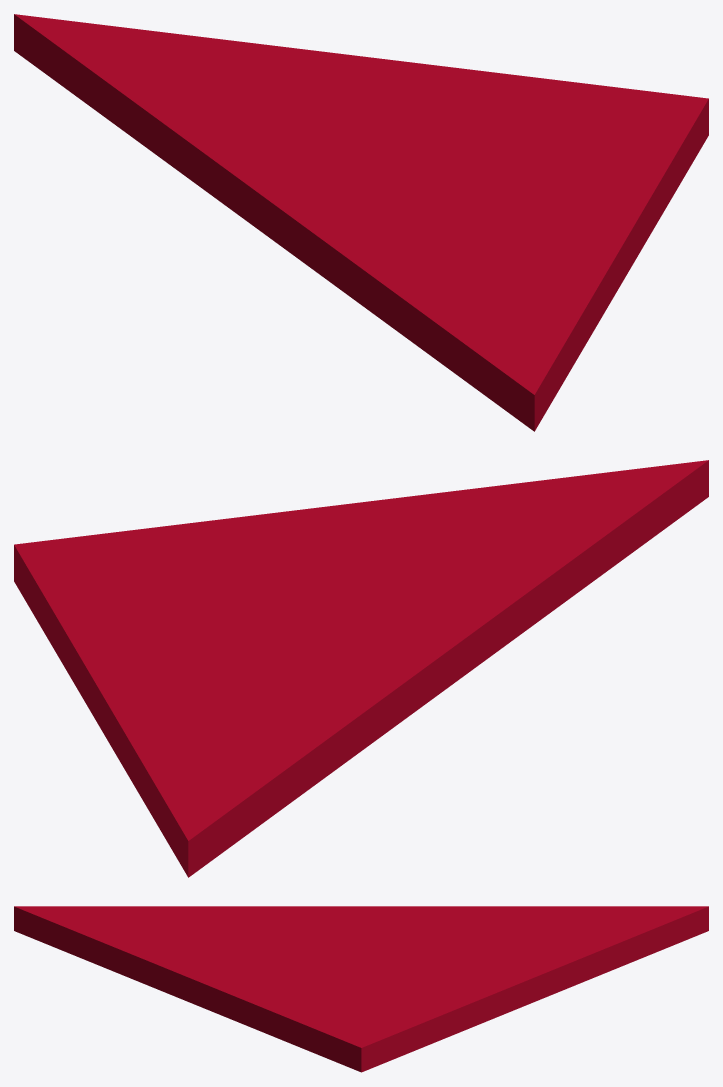
The model's file is arrow.fbx.
The picture shows the model from 3 angles, top to bottom: view 1: azimuth 30°, elevation 25°; view 2: azimuth 150°, elevation 25°; view 3: azimuth 270°, elevation 25°; orthographic projection. The views are drawn at different scales.
Parts seen in each view (by area): view 1: Plane; view 2: Plane; view 3: Plane.
Boxes of the visible parts, x1=… form: Plane: x1=14, y1=14, x2=708, y2=431; Plane: x1=14, y1=460, x2=708, y2=877; Plane: x1=14, y1=906, x2=708, y2=1072.
Size of the model in its own units: 65.22 by 5.27 by 135.
